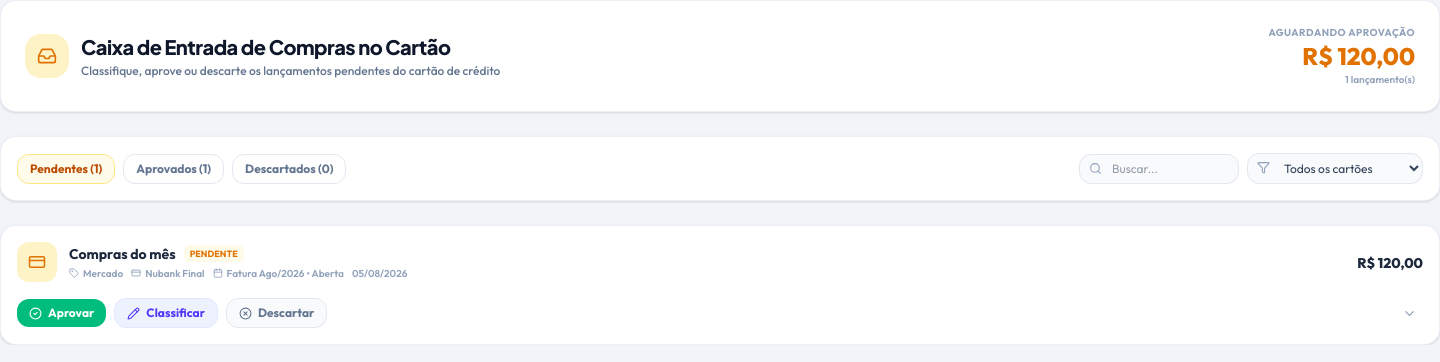
Test: StagingInbox › abre a aba de aprovados
Step 1. Click the button "Aprovados (1)" → (174, 168), box x1=123 y1=154 x2=224 y2=184
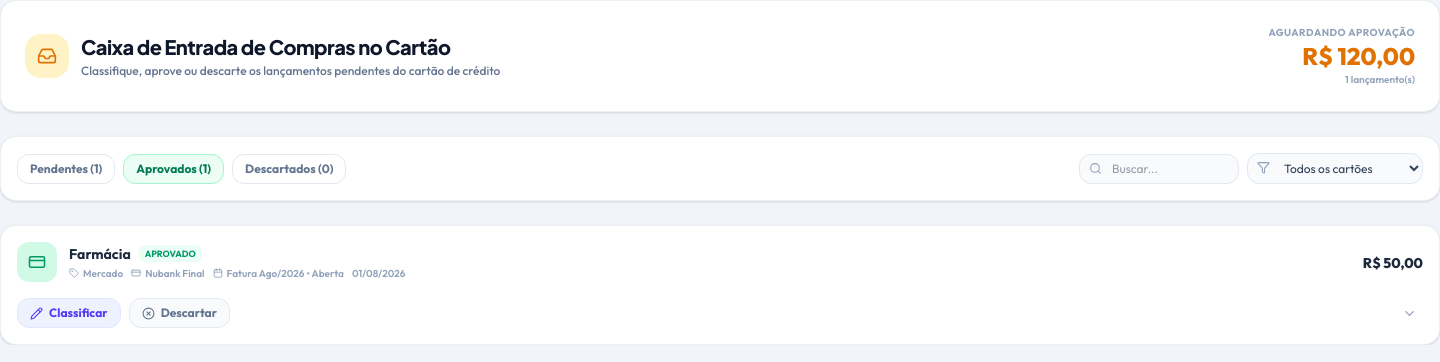
expect the text "Farmácia" is shown: met, box x1=69 y1=244 x2=131 y2=264
